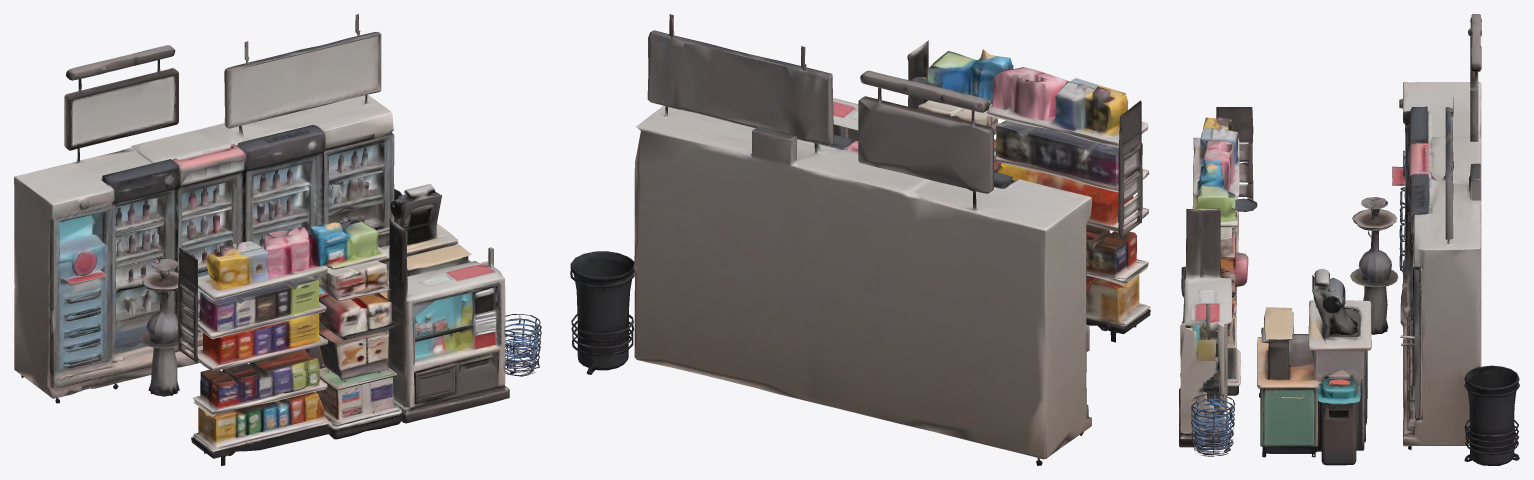
The model's file is webtoon_convenience_store_fixture_cluster.glb.
The picture shows the model from 3 angles, left to right: view 1: azimuth 30°, elevation 25°; view 2: azimuth 150°, elevation 25°; view 3: azimuth 270°, elevation 25°; orthographic projection. The views are drawn at different scales.
Parts seen in each view (by area): view 1: webtoon_convenience_store_fixture_cluster_mesh_00; view 2: webtoon_convenience_store_fixture_cluster_mesh_00; view 3: webtoon_convenience_store_fixture_cluster_mesh_00.
Part boxes in pixels (x1=…): webtoon_convenience_store_fixture_cluster_mesh_00: x1=14, y1=14, x2=541, y2=465; webtoon_convenience_store_fixture_cluster_mesh_00: x1=570, y1=14, x2=1150, y2=465; webtoon_convenience_store_fixture_cluster_mesh_00: x1=1179, y1=14, x2=1519, y2=465.
Size of the model in its own units: 3.25 by 2.35 by 2.43.
Materials: 1 (1 with a texture image).
